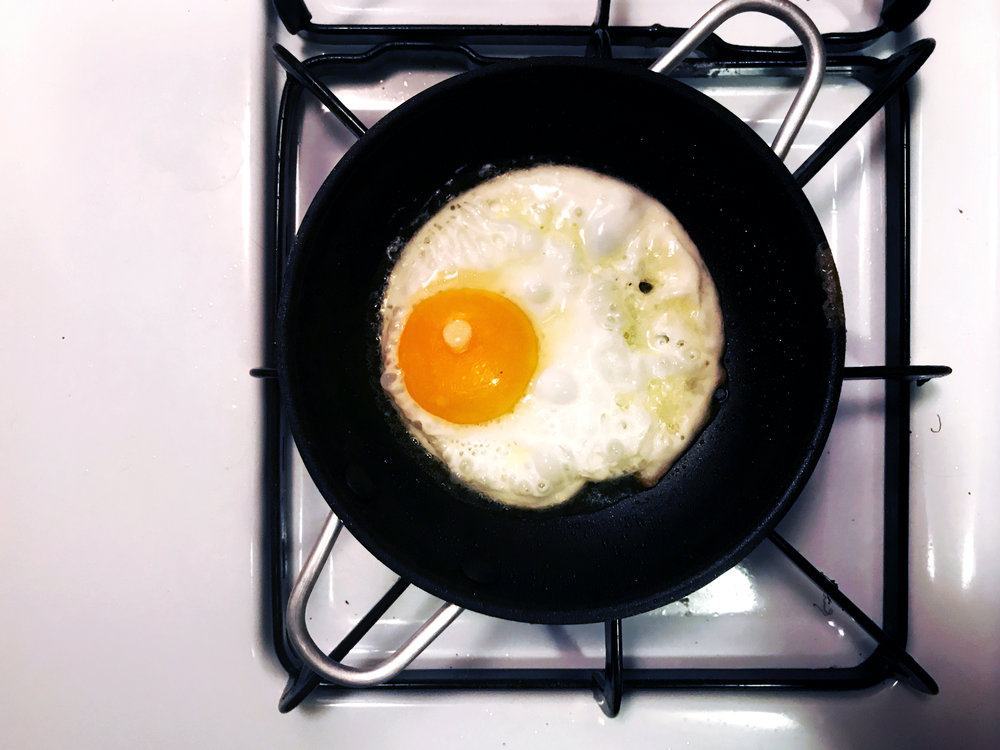fried egg: (398, 211, 667, 477)
